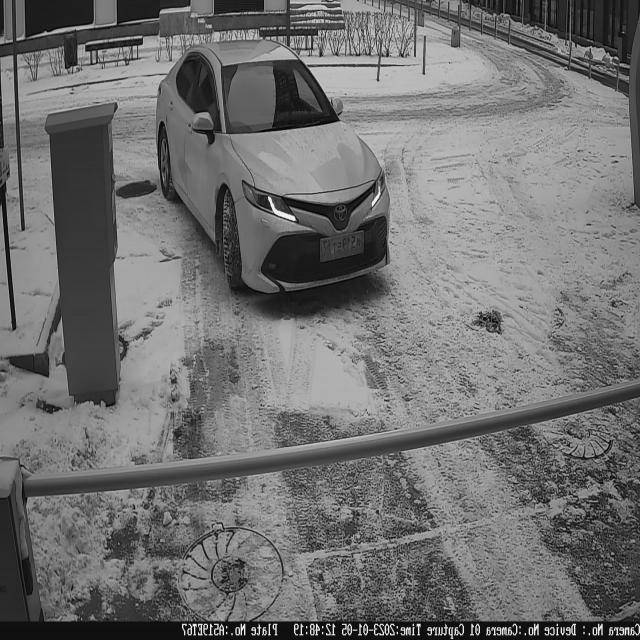car-plate-numbers: (317, 226, 368, 265)
